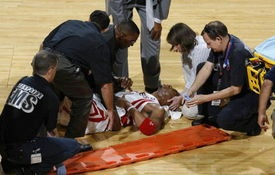falling: (31, 75, 186, 137)
